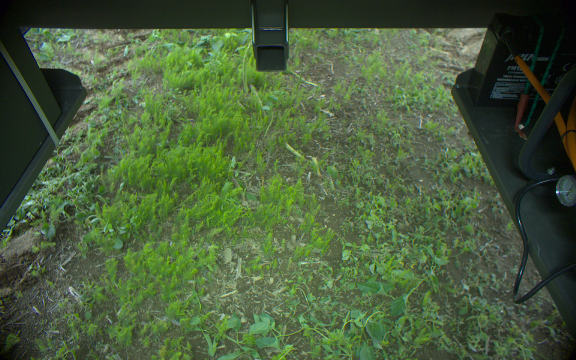aspa: (238, 40, 253, 97)
